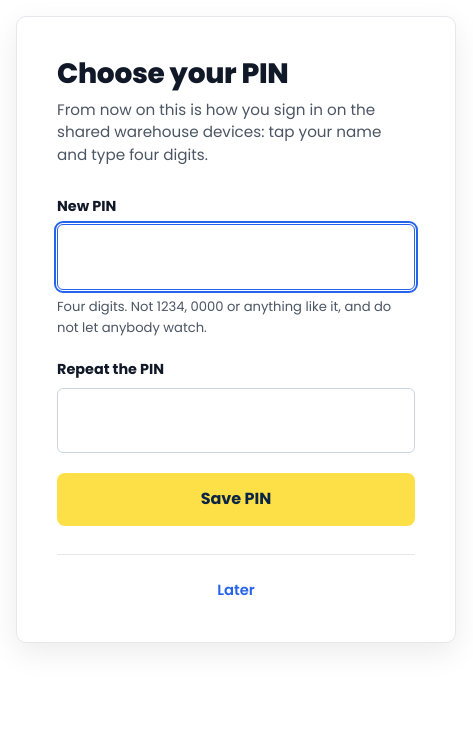
Scenario: choosing a floor PIN › shows the server’s reason for refusing an easy PIN
Type "1234" into the password field labelled "New PIN". click: (236, 257)
box: [57,224,415,290]
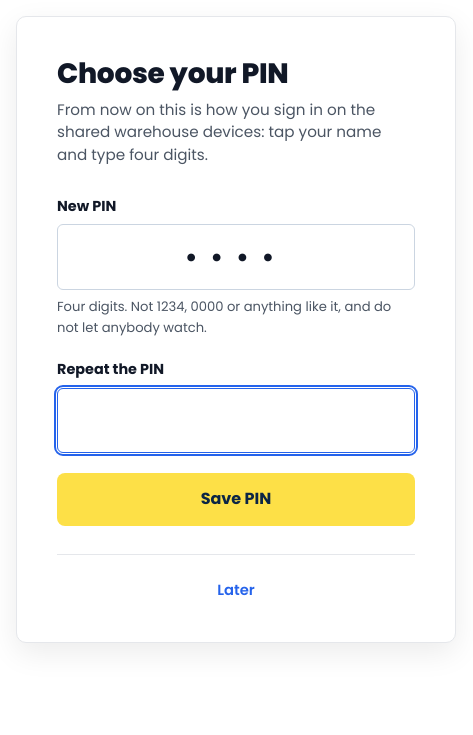
Type "1234" into the password field labelled "Repeat the PIN". click: (236, 420)
box: [57,388,415,453]
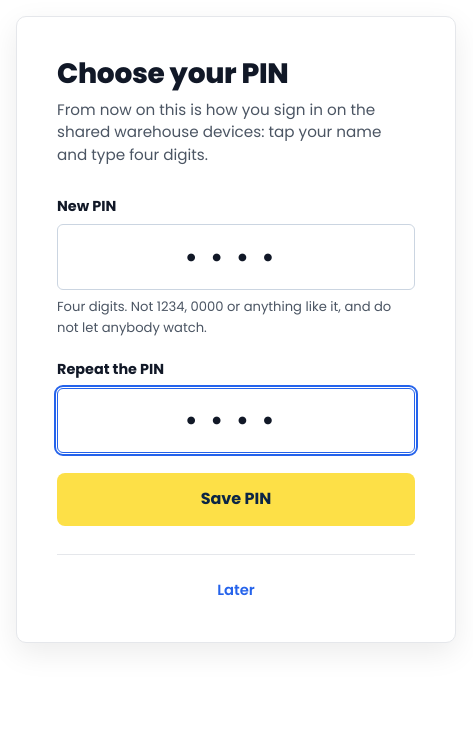
Click the button "Save PIN". click: click(236, 499)
box: [57,473,415,526]
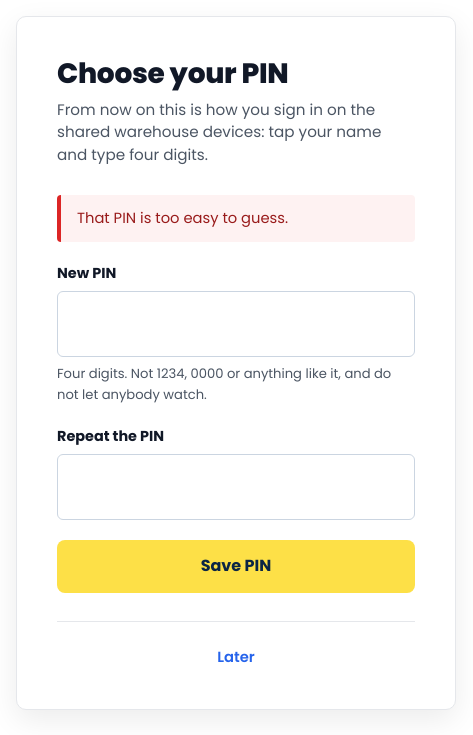
Expected: the message reads "That PIN is too easy to guess.", [77,208,288,228]
Expected: the password field labelled "New PIN" is empty, [57,291,415,357]
